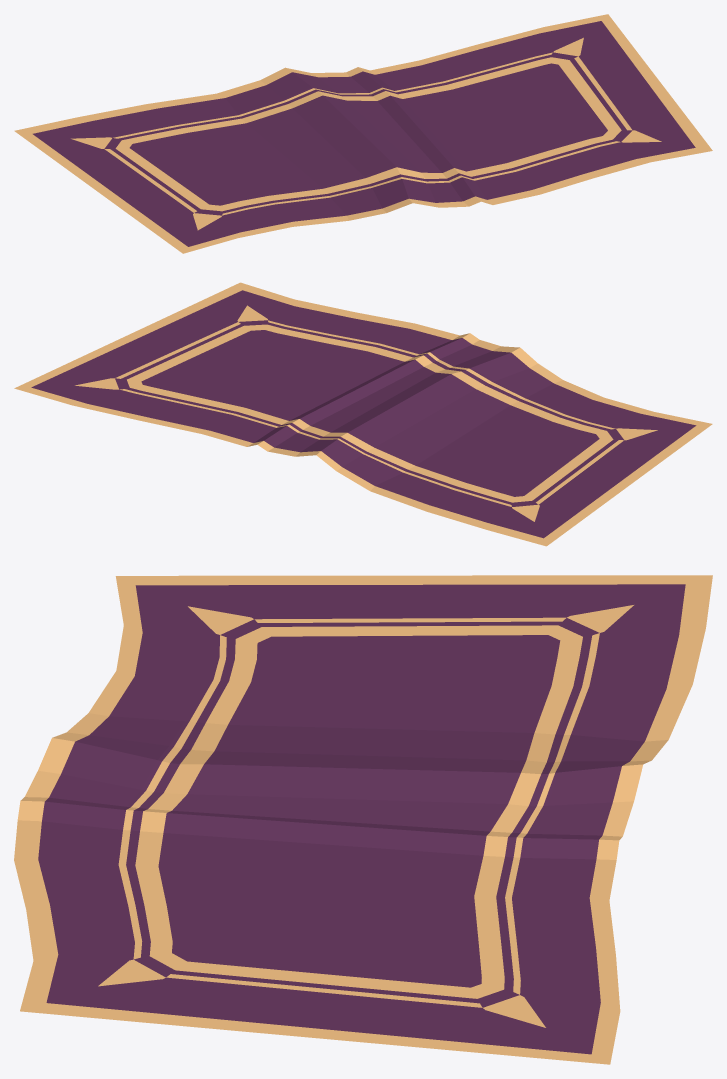
The model's file is SFHW_Rug_008.fbx.
3 views of the same model, one above another, from view 1: azimuth 30°, elevation 25°; view 2: azimuth 150°, elevation 25°; view 3: azimuth 270°, elevation 25° (orthographic). The views are drawn at different scales.
Parts seen in each view (by area): view 1: SFHW_Rug_008; view 2: SFHW_Rug_008; view 3: SFHW_Rug_008.
Part boxes in pixels (left/top/right/bottom): SFHW_Rug_008: left=14, top=14, right=712, bottom=253; SFHW_Rug_008: left=14, top=282, right=712, bottom=546; SFHW_Rug_008: left=14, top=575, right=712, bottom=1064.
Bounding box in the file's own units: 143 × 3.92 × 86.56.
